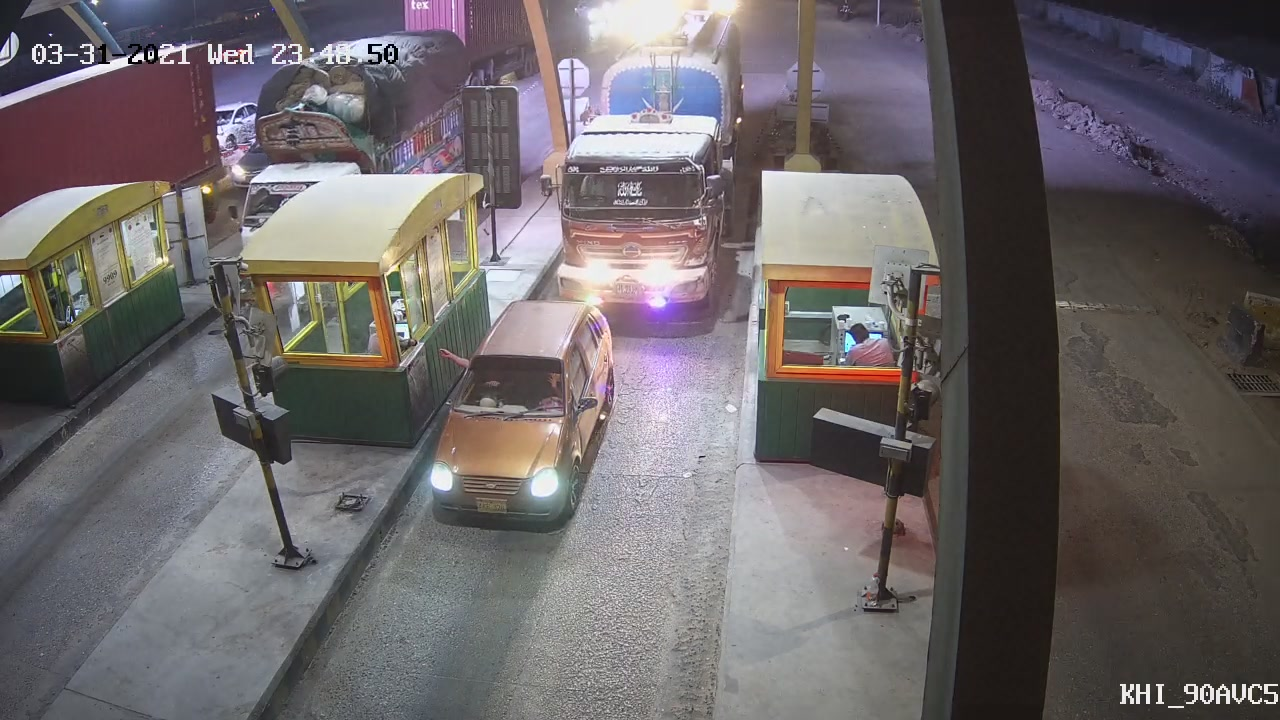F1: (425, 296, 619, 523)
